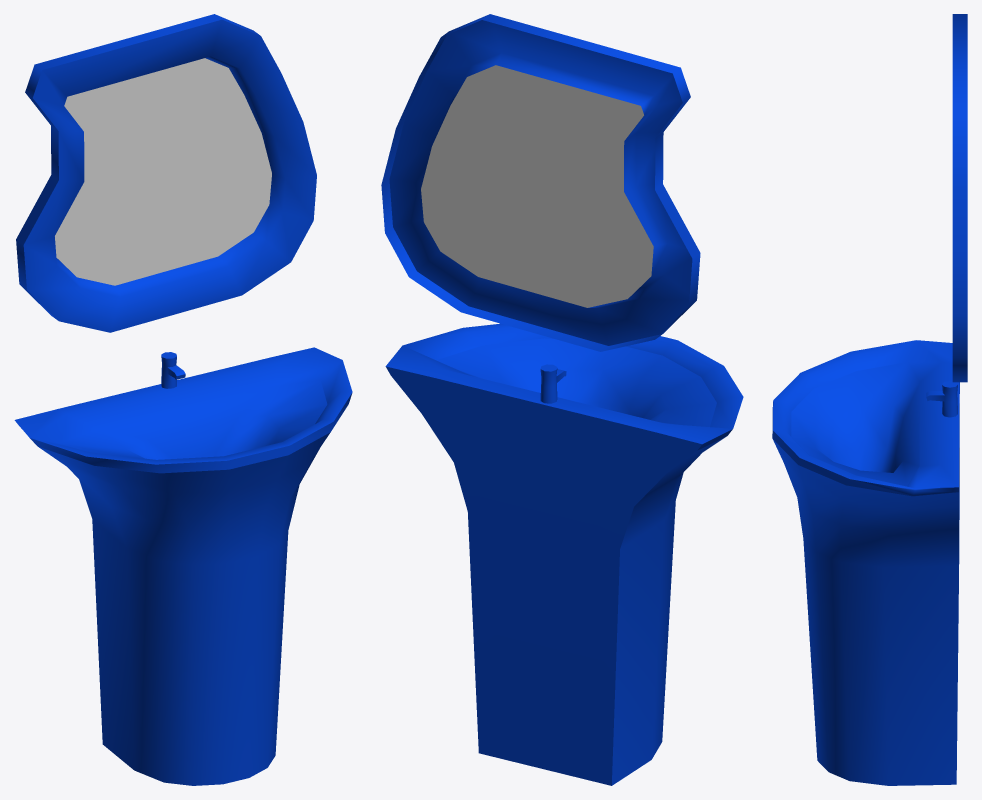
File: espejo_lavamanos_uv.fbx
The picture shows the model from 3 angles, left to right: view 1: azimuth 30°, elevation 25°; view 2: azimuth 150°, elevation 25°; view 3: azimuth 270°, elevation 25°; orthographic projection. The views are drawn at different scales.
Parts seen in each view (by area): view 1: lavamanos.001, espejo, lavamanos; view 2: lavamanos.001, espejo, lavamanos; view 3: lavamanos.001, espejo, lavamanos.
Boxes of the visible parts, left/top/right/bottom form: lavamanos.001: left=14, top=347, right=352, bottom=785; espejo: left=16, top=14, right=316, bottom=332; lavamanos: left=161, top=352, right=185, bottom=388; lavamanos.001: left=385, top=323, right=743, bottom=785; espejo: left=381, top=14, right=700, bottom=351; lavamanos: left=540, top=364, right=566, bottom=403; lavamanos.001: left=772, top=340, right=959, bottom=785; espejo: left=952, top=14, right=967, bottom=382; lavamanos: left=926, top=381, right=957, bottom=417.
Bounding box in the file's own units: 82.98 × 177 × 45.48.
